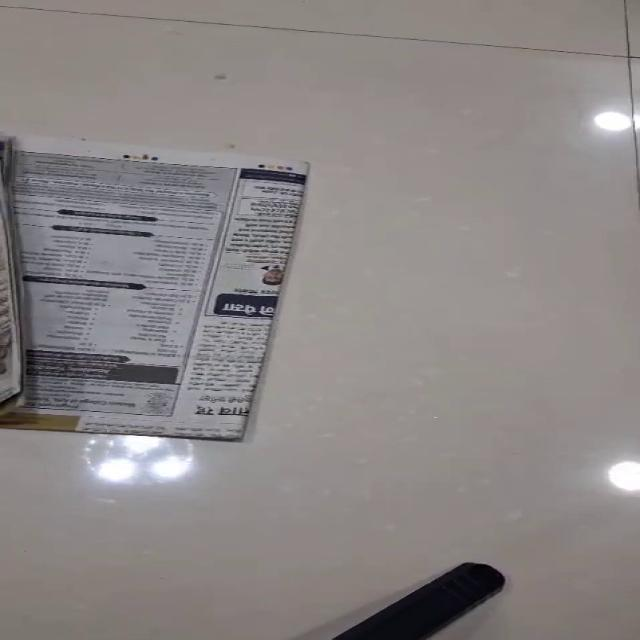paper: (0, 134, 311, 442)
